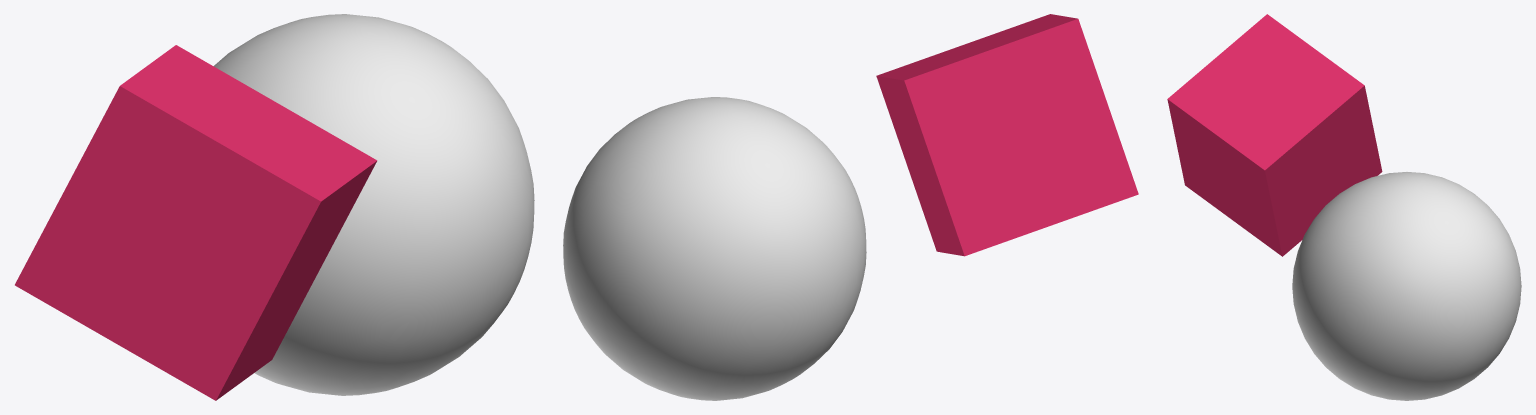
Rendered from reflection.glb.
3 views of the same model, side by side, from view 1: azimuth 30°, elevation 25°; view 2: azimuth 150°, elevation 25°; view 3: azimuth 270°, elevation 25° (orthographic). The views are drawn at different scales.
Visible parts, largest first — view 1: Cube.001, Icosphere; view 2: Icosphere, Cube.001; view 3: Icosphere, Cube.001.
Boxes of the visible parts, left/top/right/bottom form: Cube.001: left=15, top=45, right=377, bottom=400; Icosphere: left=214, top=14, right=534, bottom=395; Icosphere: left=563, top=97, right=866, bottom=400; Cube.001: left=876, top=14, right=1138, bottom=256; Icosphere: left=1292, top=172, right=1521, bottom=400; Cube.001: left=1167, top=14, right=1382, bottom=256.
Bounding box in the file's own units: 3.94 × 2.91 × 3.37.
